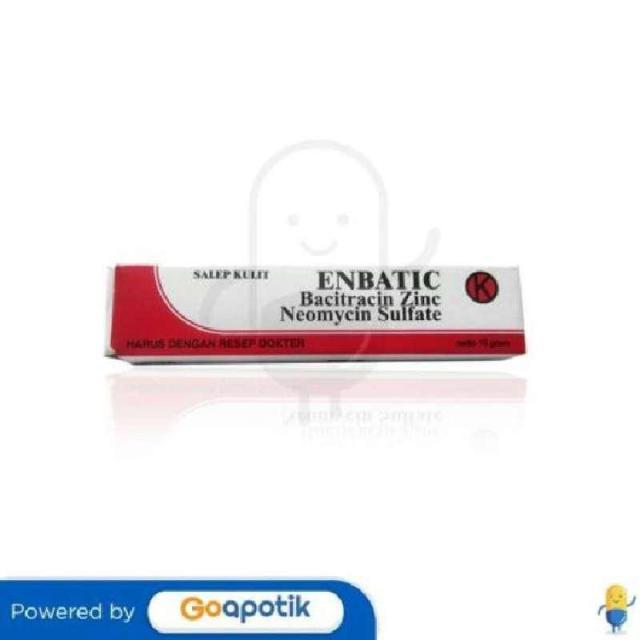drug-name: (310, 269, 444, 291)
